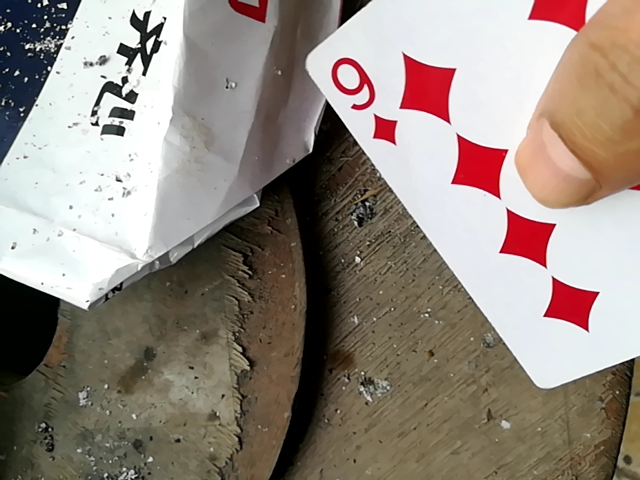fk 9: (301, 2, 638, 398)
